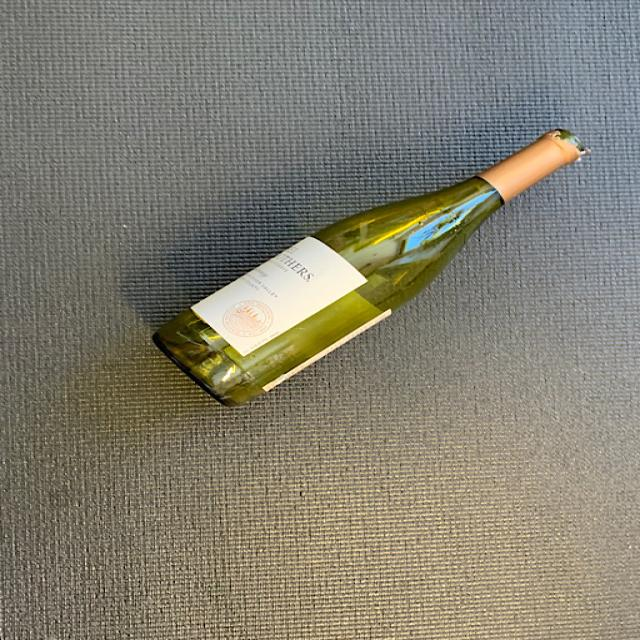Glass Bottle: (154, 126, 586, 416)
